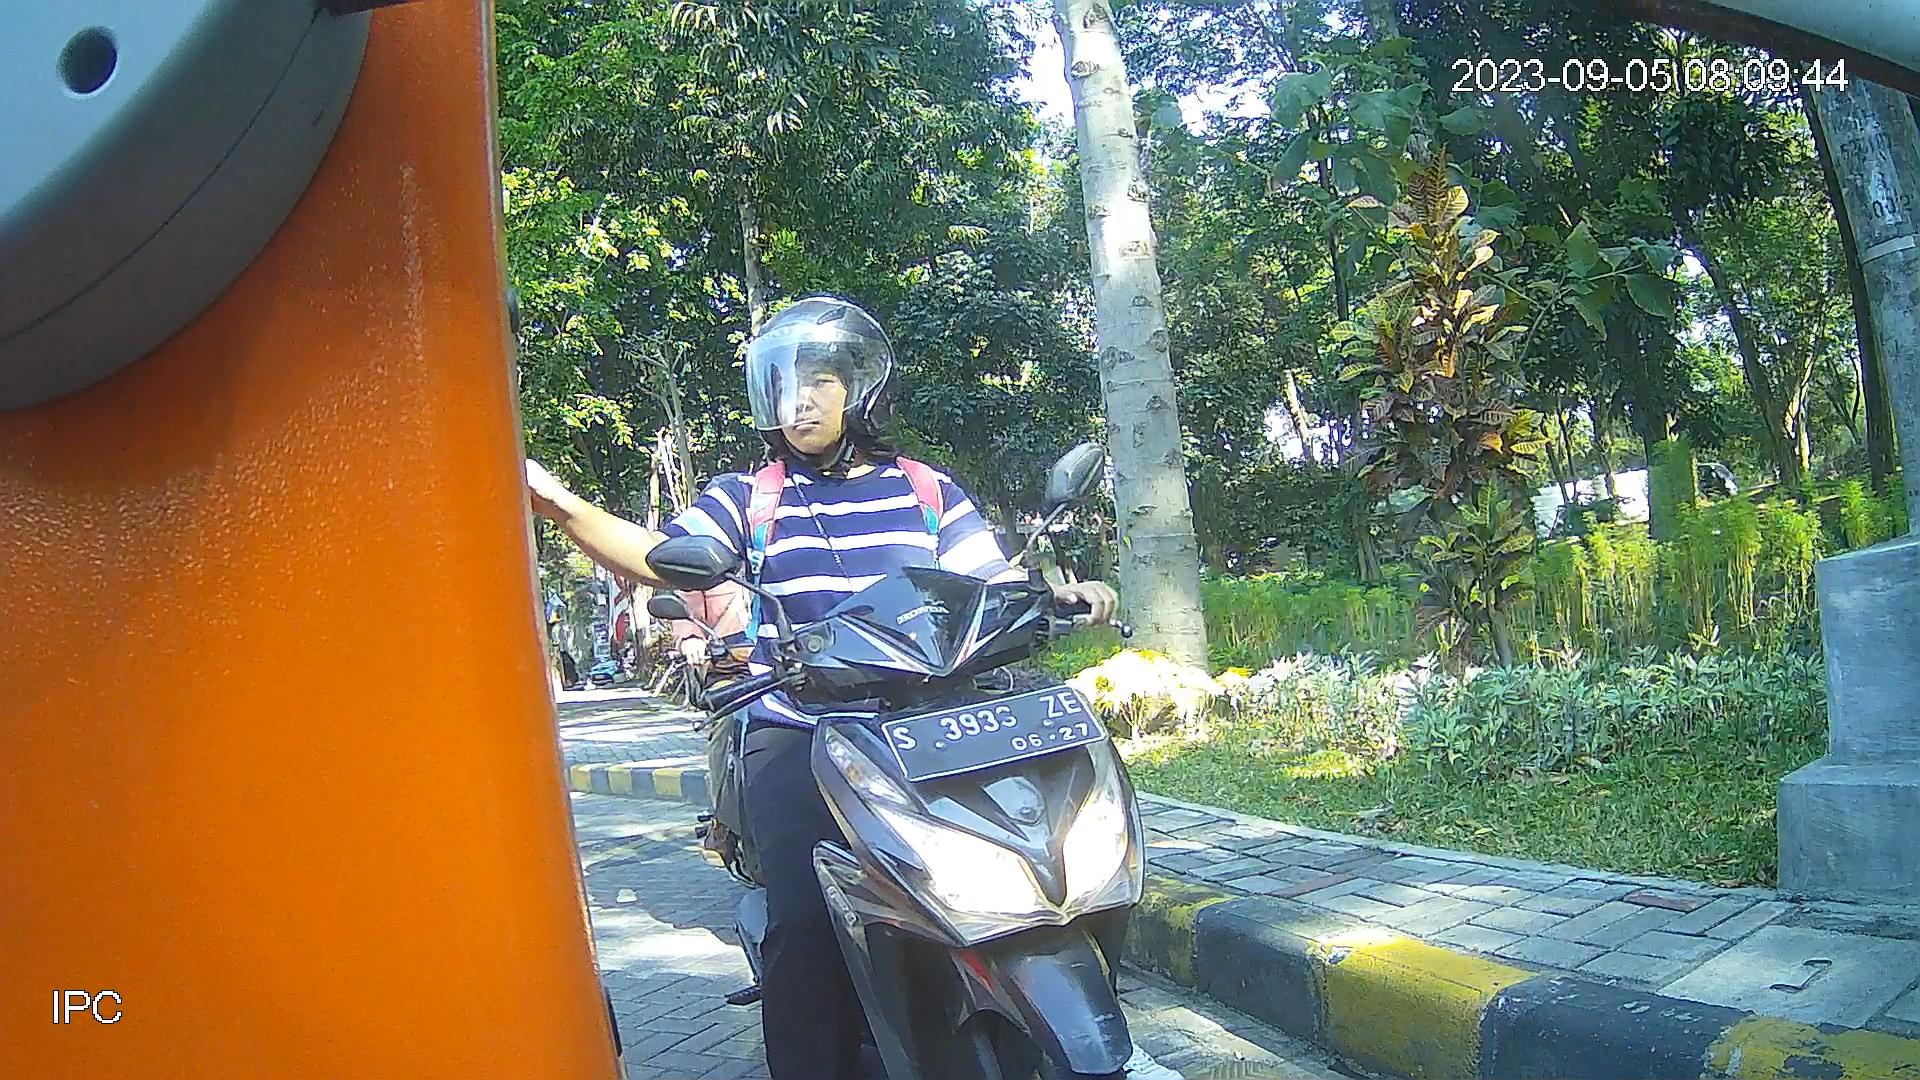plat: (878, 680, 1110, 783)
